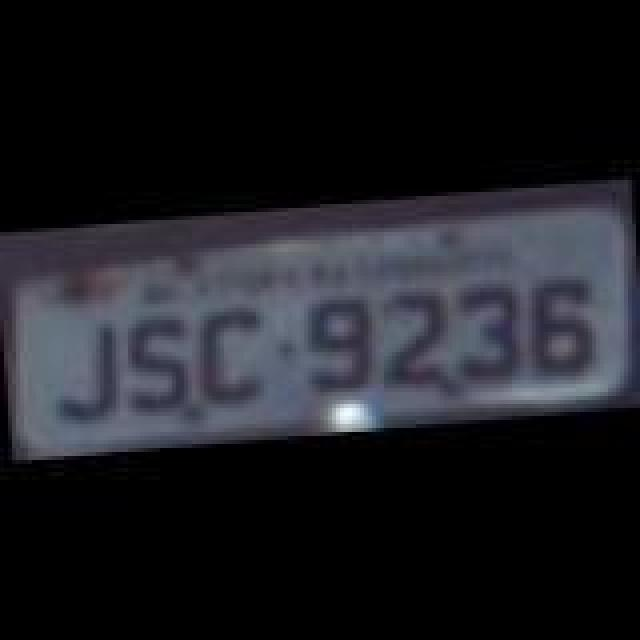2: (368, 280, 448, 392)
3: (450, 276, 526, 380)
6: (524, 270, 596, 370)
9: (296, 284, 376, 396)
C: (186, 298, 262, 406)
J: (44, 318, 124, 418)
S: (116, 308, 188, 412)
